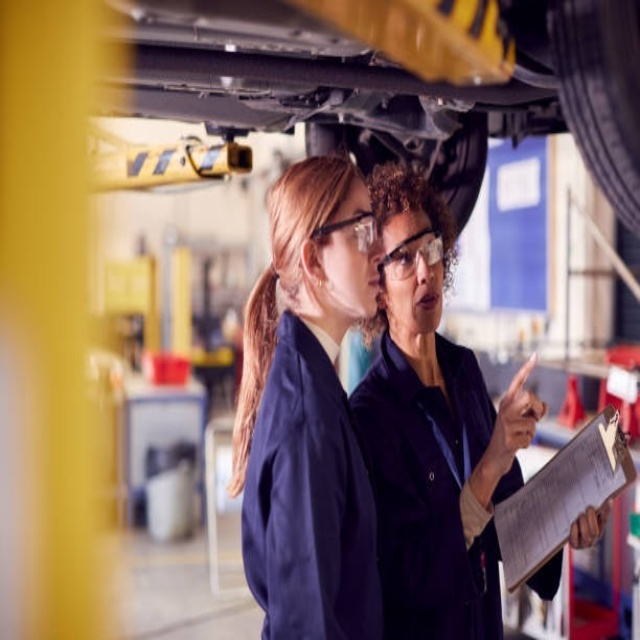Gafas: (377, 229, 443, 280), (312, 211, 377, 252)
Sin_guantes: (487, 345, 554, 471), (567, 493, 617, 557)
Sin_mascara: (351, 265, 382, 317), (410, 284, 444, 325)
